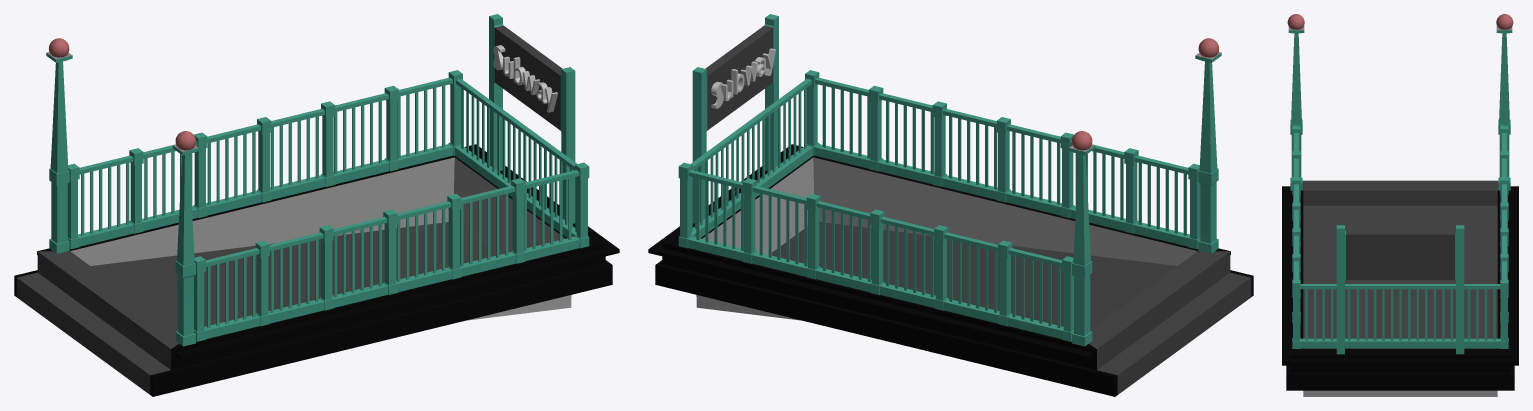
The model's file is Subway_Underground (1).fbx.
3 views of the same model, side by side, from view 1: azimuth 30°, elevation 25°; view 2: azimuth 150°, elevation 25°; view 3: azimuth 270°, elevation 25° (orthographic). The views are drawn at different scales.
Visible parts, largest first — view 1: Station, Light, Board, Iron_Outline_06, Iron_Outline_01, Iron_Outline_04, Iron_Outline_05, Iron_Outline_03, Iron_Outline_02, Iron_Bar_07, Iron_Bar_01, Iron_Bar_03 (+6 smaller); view 2: Station, Light, Board, Iron_Outline_01, Iron_Outline_04, Iron_Outline_02, Iron_Outline_05, Iron_Outline_03, Iron_Outline_06, Iron_Bar_07, Iron_Outline_07, Iron_Bar_01 (+6 smaller); view 3: Station, Board, Iron_Outline_07, Iron_Bar_07, Light, Iron_Outline_01, Iron_Outline_03, Iron_Outline_02, Iron_Outline_05, Iron_Outline_04, Iron_Outline_06.
Part boxes in pixels (bbox=[...]): Station: bbox=[14, 144, 619, 396]; Light: bbox=[46, 38, 198, 346]; Board: bbox=[489, 14, 575, 223]; Iron_Outline_06: bbox=[384, 72, 589, 263]; Iron_Outline_01: bbox=[67, 148, 269, 341]; Iron_Outline_04: bbox=[257, 101, 461, 294]; Iron_Outline_05: bbox=[321, 86, 525, 279]; Iron_Outline_03: bbox=[193, 117, 397, 310]; Iron_Outline_02: bbox=[129, 132, 333, 325]; Iron_Bar_07: bbox=[461, 88, 576, 232]; Iron_Bar_01: bbox=[81, 162, 255, 328]; Iron_Bar_03: bbox=[207, 132, 381, 297]; Station: bbox=[648, 144, 1253, 396]; Light: bbox=[1069, 38, 1221, 346]; Board: bbox=[692, 14, 778, 223]; Iron_Outline_01: bbox=[998, 148, 1200, 341]; Iron_Outline_04: bbox=[806, 101, 1010, 294]; Iron_Outline_02: bbox=[934, 132, 1138, 325]; Iron_Outline_05: bbox=[742, 86, 946, 279]; Iron_Outline_03: bbox=[870, 117, 1074, 310]; Iron_Outline_06: bbox=[687, 72, 883, 263]; Iron_Bar_07: bbox=[691, 88, 806, 232]; Iron_Outline_07: bbox=[678, 70, 818, 248]; Iron_Bar_01: bbox=[1012, 162, 1186, 328]; Station: bbox=[1282, 180, 1518, 396]; Board: bbox=[1336, 225, 1464, 354]; Iron_Outline_07: bbox=[1292, 279, 1508, 348]; Iron_Bar_07: bbox=[1305, 289, 1495, 340]; Light: bbox=[1287, 14, 1513, 190]; Iron_Outline_01: bbox=[1292, 125, 1508, 220]; Iron_Outline_03: bbox=[1292, 179, 1508, 271]; Iron_Outline_02: bbox=[1292, 152, 1508, 246]; Iron_Outline_05: bbox=[1292, 228, 1508, 323]; Iron_Outline_04: bbox=[1292, 210, 1508, 297]; Iron_Outline_06: bbox=[1292, 254, 1508, 337].
Bounding box in the file's own units: 51.85 × 29.23 × 27.8.
